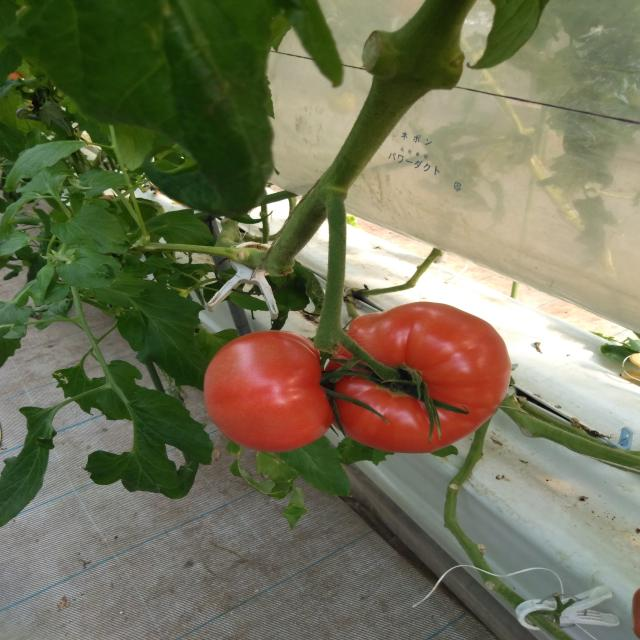n-riped: (324, 301, 512, 453), (202, 330, 335, 453)
